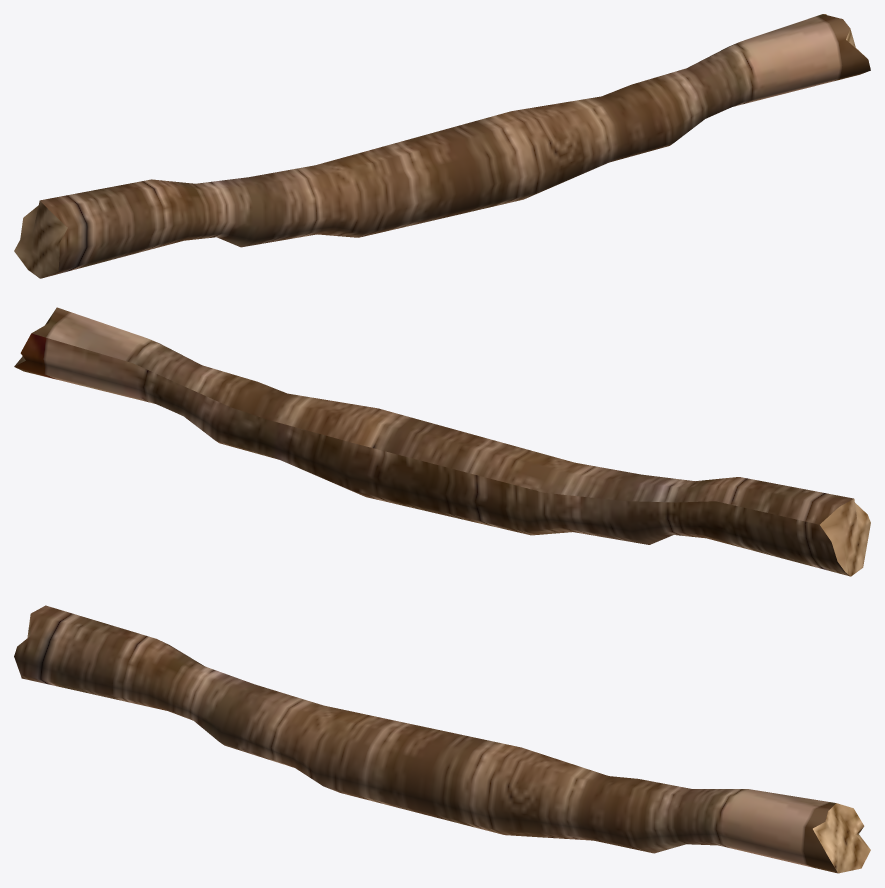
3 renders of one model, top to bottom at view 1: azimuth 30°, elevation 25°; view 2: azimuth 150°, elevation 25°; view 3: azimuth 330°, elevation 25°, orthographic.
Parts seen in each view (by area): view 1: SM_WateringCan_Wood_2H_01_LOD0; view 2: SM_WateringCan_Wood_2H_01_LOD0; view 3: SM_WateringCan_Wood_2H_01_LOD0.
Part boxes in pixels (x1,y1,x2,y2): SM_WateringCan_Wood_2H_01_LOD0: [14, 14, 870, 278]; SM_WateringCan_Wood_2H_01_LOD0: [14, 307, 870, 576]; SM_WateringCan_Wood_2H_01_LOD0: [14, 605, 870, 873].
Size of the model in its own units: 1.23 by 0.1473 by 0.1216.
